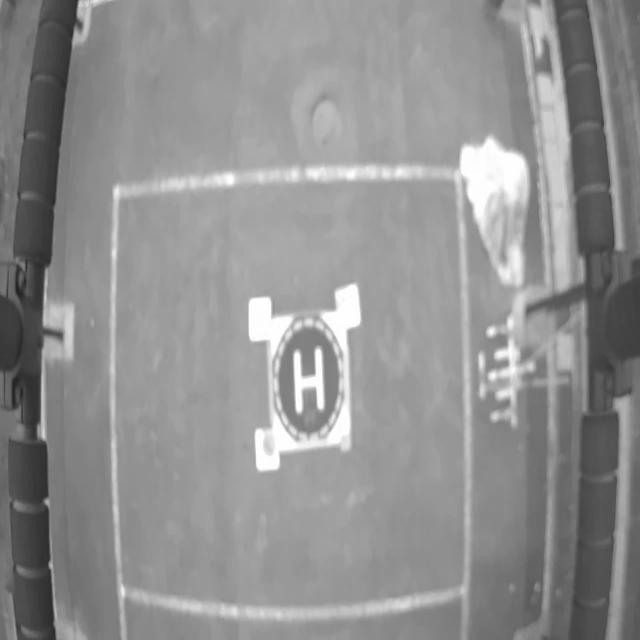Helipad: (291, 344, 328, 417)
